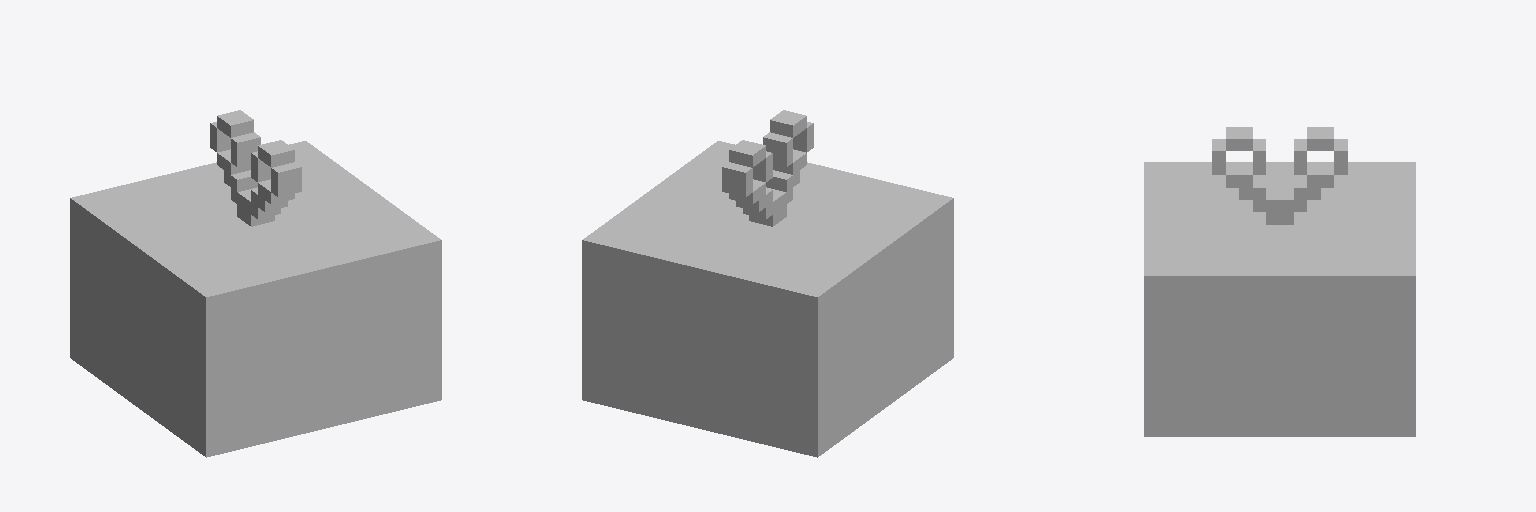
File: Present.obj
3 renders of one model, left to right at view 1: azimuth 30°, elevation 25°; view 2: azimuth 150°, elevation 25°; view 3: azimuth 270°, elevation 25°, orthographic.
Parts seen in each view (by area): view 1: object 1; view 2: object 1; view 3: object 1.
Boxes of the visible parts, x1,y1,x2,y2 form: object 1: [70, 110, 441, 457]; object 1: [582, 110, 953, 457]; object 1: [1144, 127, 1415, 436].
Bounding box in the file's own units: 2 × 2 × 2.